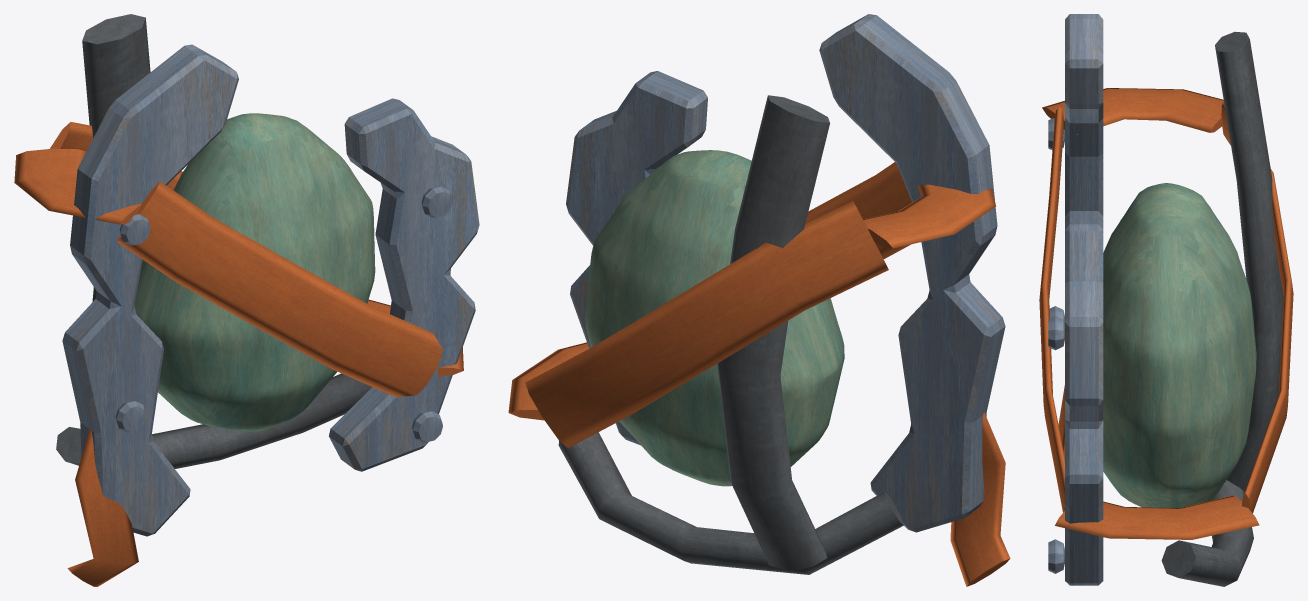
The model's file is hybrid_salvage_sdf.obj.
The picture shows the model from 3 angles, left to right: view 1: azimuth 30°, elevation 25°; view 2: azimuth 150°, elevation 25°; view 3: azimuth 270°, elevation 25°; orthographic projection. The views are drawn at different scales.
Visible parts, largest first — view 1: CORE_OrganicVolume.001_hybrid_salvage_sdf_core, FABRICATED_left.001_hybrid_salvage_sdf_outer, FABRICATED_right.001_hybrid_salvage_sdf_outer, BINDING_FrontDiagonal.001_hybrid_salvage_sdf_binding, BASE_Cradle.001_hybrid_salvage_sdf_spine, BACK_SupportSpine.001_hybrid_salvage_sdf_spine, BINDING_FoldedTail.001_hybrid_salvage_sdf_binding, BINDING_LeftReturn.001_hybrid_salvage_sdf_binding, BINDING_BackDiagonal.001_hybrid_salvage_sdf_binding, FASTENER_3.001_hybrid_salvage_sdf_outer, FASTENER_2.001_hybrid_salvage_sdf_outer, FASTENER_1.001_hybrid_salvage_sdf_outer (+1 smaller); view 2: FABRICATED_left.001_hybrid_salvage_sdf_outer, CORE_OrganicVolume.001_hybrid_salvage_sdf_core, BINDING_BackDiagonal.001_hybrid_salvage_sdf_binding, BACK_SupportSpine.001_hybrid_salvage_sdf_spine, FABRICATED_right.001_hybrid_salvage_sdf_outer, BASE_Cradle.001_hybrid_salvage_sdf_spine, BINDING_FoldedTail.001_hybrid_salvage_sdf_binding, BINDING_LeftReturn.001_hybrid_salvage_sdf_binding, BINDING_FrontDiagonal.001_hybrid_salvage_sdf_binding, BINDING_RightReturn.001_hybrid_salvage_sdf_binding; view 3: CORE_OrganicVolume.001_hybrid_salvage_sdf_core, FABRICATED_right.001_hybrid_salvage_sdf_outer, BACK_SupportSpine.001_hybrid_salvage_sdf_spine, FABRICATED_left.001_hybrid_salvage_sdf_outer, BINDING_RightReturn.001_hybrid_salvage_sdf_binding, BINDING_LeftReturn.001_hybrid_salvage_sdf_binding, BINDING_BackDiagonal.001_hybrid_salvage_sdf_binding, BINDING_FrontDiagonal.001_hybrid_salvage_sdf_binding, BASE_Cradle.001_hybrid_salvage_sdf_spine, FASTENER_2.001_hybrid_salvage_sdf_outer, FASTENER_3.001_hybrid_salvage_sdf_outer.
Part boxes in pixels (x1=…): CORE_OrganicVolume.001_hybrid_salvage_sdf_core: x1=134, y1=113, x2=375, y2=431; FABRICATED_left.001_hybrid_salvage_sdf_outer: x1=62, y1=44, x2=238, y2=536; FABRICATED_right.001_hybrid_salvage_sdf_outer: x1=329, y1=98, x2=479, y2=471; BINDING_FrontDiagonal.001_hybrid_salvage_sdf_binding: x1=117, y1=181, x2=442, y2=397; BASE_Cradle.001_hybrid_salvage_sdf_spine: x1=56, y1=373, x2=371, y2=468; BACK_SupportSpine.001_hybrid_salvage_sdf_spine: x1=82, y1=14, x2=150, y2=301; BINDING_FoldedTail.001_hybrid_salvage_sdf_binding: x1=67, y1=427, x2=138, y2=586; BINDING_LeftReturn.001_hybrid_salvage_sdf_binding: x1=14, y1=148, x2=141, y2=224; BINDING_BackDiagonal.001_hybrid_salvage_sdf_binding: x1=50, y1=122, x2=182, y2=189; FASTENER_3.001_hybrid_salvage_sdf_outer: x1=412, y1=411, x2=442, y2=442; FASTENER_2.001_hybrid_salvage_sdf_outer: x1=421, y1=186, x2=452, y2=217; FASTENER_1.001_hybrid_salvage_sdf_outer: x1=115, y1=401, x2=146, y2=432; FABRICATED_left.001_hybrid_salvage_sdf_outer: x1=819, y1=14, x2=1005, y2=532; CORE_OrganicVolume.001_hybrid_salvage_sdf_core: x1=585, y1=150, x2=844, y2=486; BINDING_BackDiagonal.001_hybrid_salvage_sdf_binding: x1=525, y1=201, x2=888, y2=447; BACK_SupportSpine.001_hybrid_salvage_sdf_spine: x1=717, y1=95, x2=829, y2=569; FABRICATED_right.001_hybrid_salvage_sdf_outer: x1=566, y1=71, x2=707, y2=445; BASE_Cradle.001_hybrid_salvage_sdf_spine: x1=558, y1=432, x2=903, y2=574; BINDING_FoldedTail.001_hybrid_salvage_sdf_binding: x1=950, y1=412, x2=1010, y2=586; BINDING_LeftReturn.001_hybrid_salvage_sdf_binding: x1=863, y1=184, x2=995, y2=248; BINDING_FrontDiagonal.001_hybrid_salvage_sdf_binding: x1=805, y1=162, x2=911, y2=259; BINDING_RightReturn.001_hybrid_salvage_sdf_binding: x1=508, y1=342, x2=589, y2=420; CORE_OrganicVolume.001_hybrid_salvage_sdf_core: x1=1103, y1=183, x2=1256, y2=507; FABRICATED_right.001_hybrid_salvage_sdf_outer: x1=1065, y1=211, x2=1103, y2=585; BACK_SupportSpine.001_hybrid_salvage_sdf_spine: x1=1215, y1=31, x2=1283, y2=491; FABRICATED_left.001_hybrid_salvage_sdf_outer: x1=1065, y1=14, x2=1103, y2=215; BINDING_RightReturn.001_hybrid_salvage_sdf_binding: x1=1055, y1=495, x2=1259, y2=539; BINDING_LeftReturn.001_hybrid_salvage_sdf_binding: x1=1042, y1=88, x2=1223, y2=134; BINDING_BackDiagonal.001_hybrid_salvage_sdf_binding: x1=1221, y1=101, x2=1293, y2=513; BINDING_FrontDiagonal.001_hybrid_salvage_sdf_binding: x1=1039, y1=107, x2=1064, y2=512; BASE_Cradle.001_hybrid_salvage_sdf_spine: x1=1161, y1=480, x2=1253, y2=586; FASTENER_2.001_hybrid_salvage_sdf_outer: x1=1048, y1=315, x2=1064, y2=350; FASTENER_3.001_hybrid_salvage_sdf_outer: x1=1048, y1=539, x2=1064, y2=573.
Bounding box in the file's own units: 3.06 × 3.6 × 1.57.
